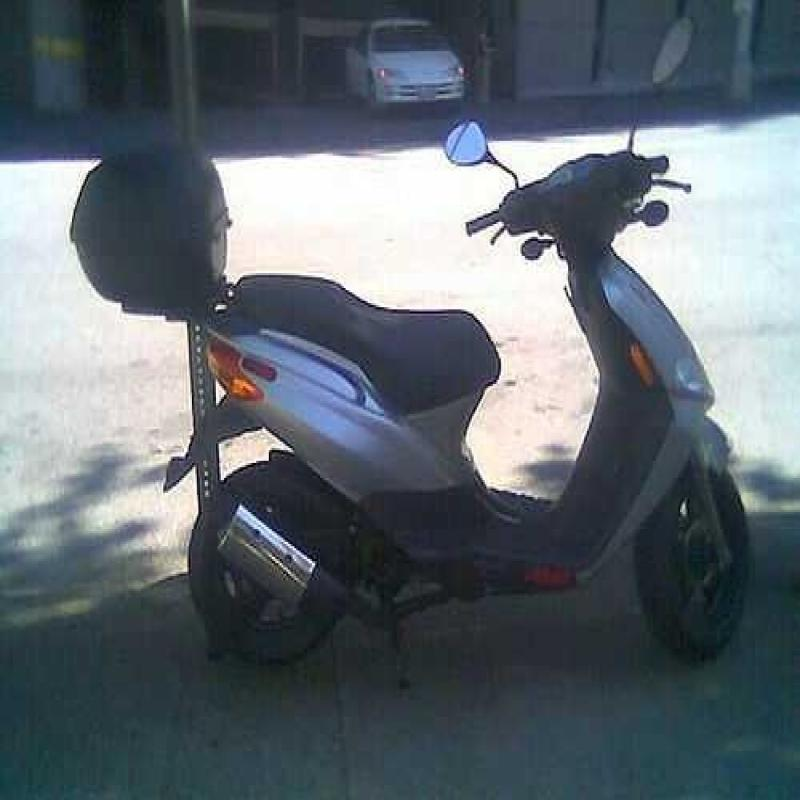bike: (115, 63, 772, 683)
